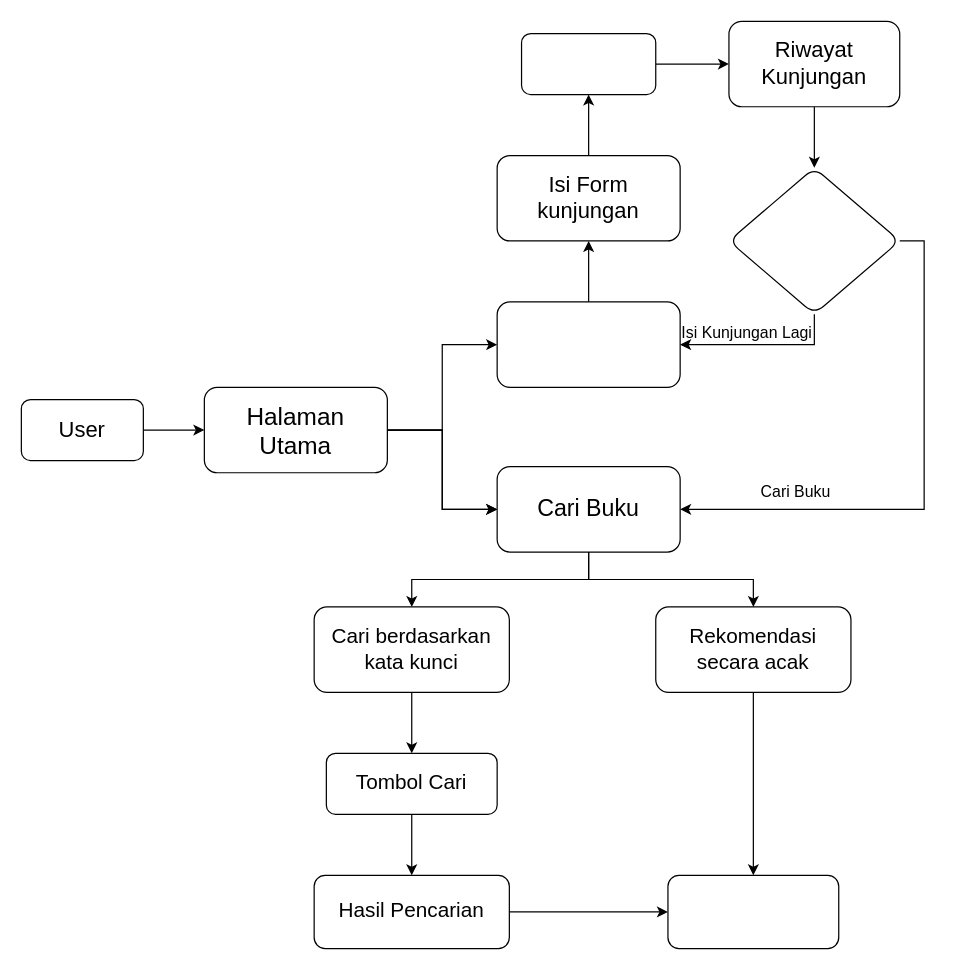
Image size: 955x970. Some labels were removed from this diagram. Here are the shapes that lost their labels. From the top down, the box of each, then its label:
(520, 32, 656, 95): Kirim
(728, 167, 900, 314): Isi Kunjungan Lagi / Cari Buku
(496, 301, 680, 387): Catatan Pengunjung
(667, 874, 839, 949): Detail Buku
